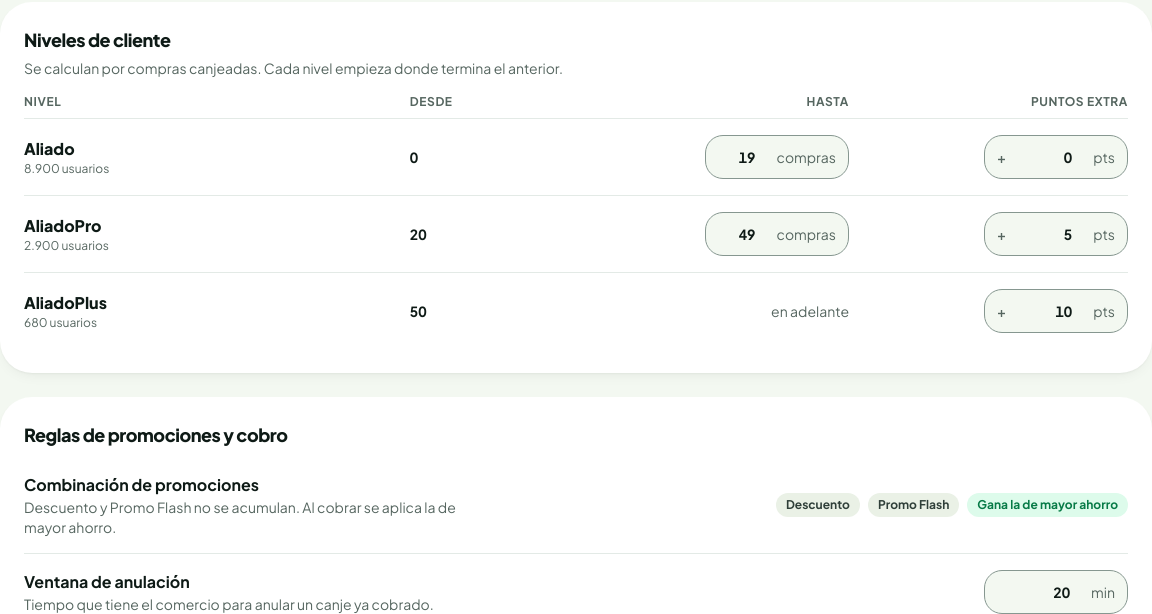
Test: B10 Niveles y reglas › la vista previa sigue al borrador
Check: the heading "Niveles de cliente" is shown, box 24,28 -> 170,51
Replace the text in the number field named "Puntos extra, Aliado" with "12". click: (1050, 157)
box: 1012,136 -> 1087,178
(page scrolled)
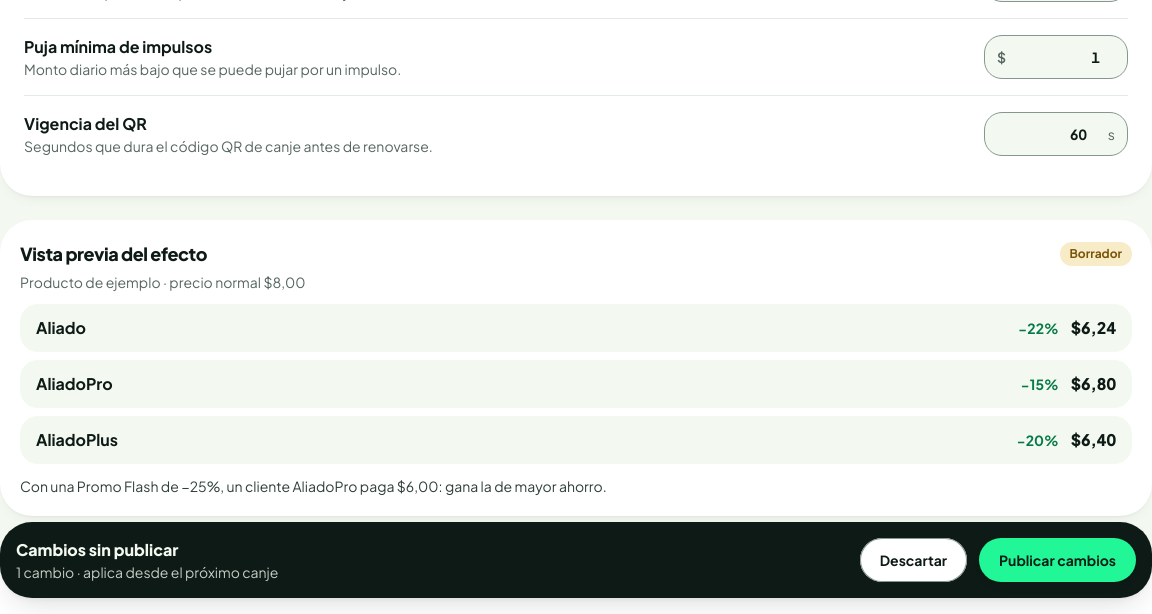
Check: the text "$6,24" is shown, box 1071,316 -> 1116,340
Check: the text "Borrador" is shown, box 1060,242 -> 1132,266
